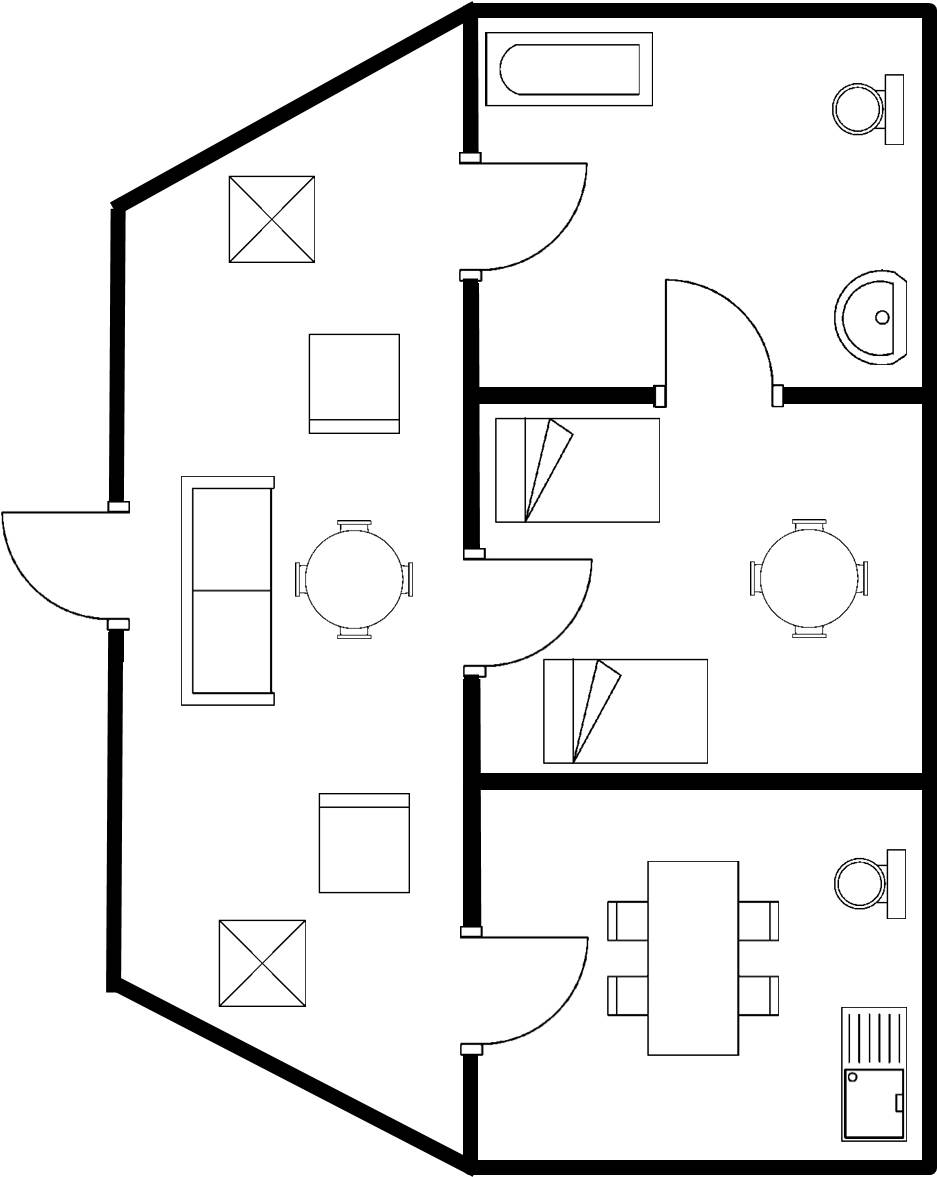bed: (489, 409, 671, 534), (536, 651, 720, 771)
coffee_table: (208, 909, 316, 1016), (220, 169, 324, 274)
dining_table: (597, 850, 789, 1067)
large_sink: (823, 67, 910, 156), (828, 841, 911, 928)
round_table: (288, 508, 424, 649), (740, 511, 877, 643)
sink: (828, 1001, 915, 1150)
small_sink: (819, 262, 915, 377)
small_sofa: (166, 465, 284, 717), (297, 324, 409, 448), (310, 786, 415, 901)
tub: (478, 25, 663, 120)
